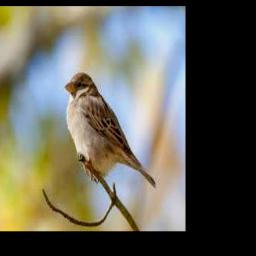Sparrow: (64, 71, 156, 190)
